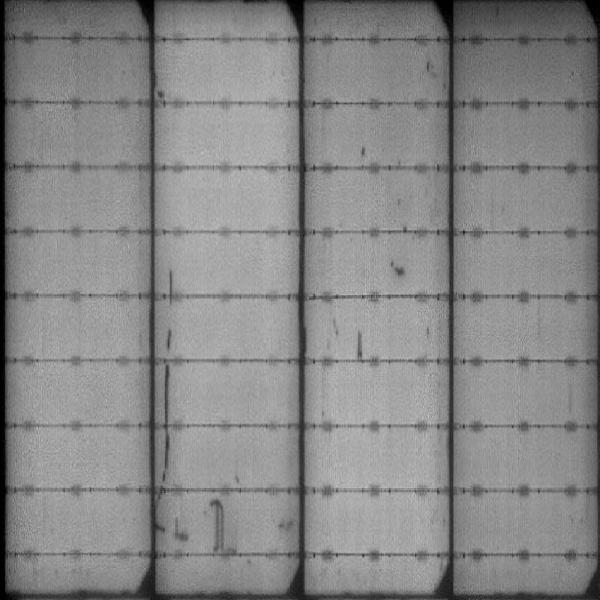scratch: (153, 362, 175, 506), (211, 493, 229, 552), (351, 321, 368, 367), (166, 268, 176, 303), (162, 323, 173, 354)
